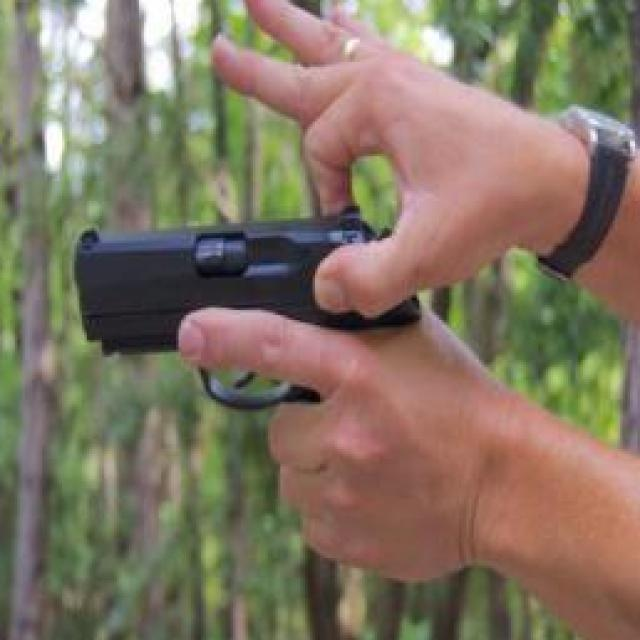pistol: (67, 203, 444, 418)
